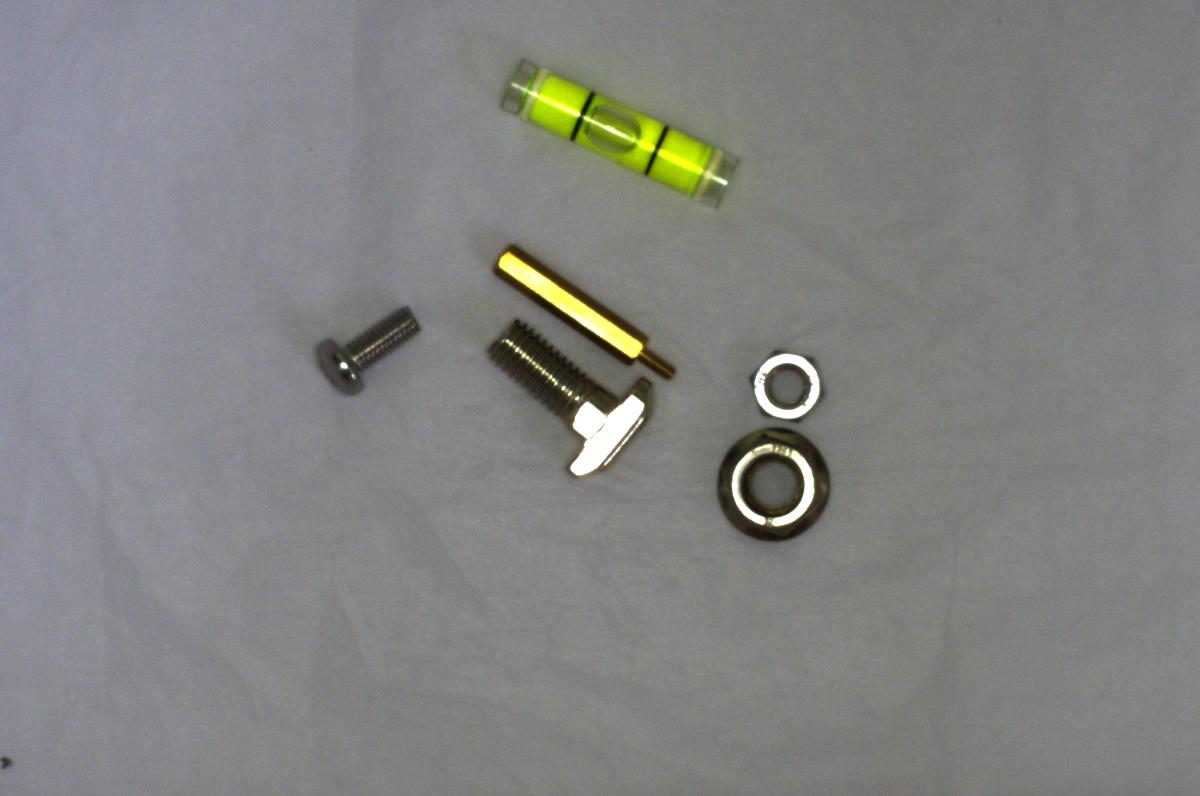Flange nut: (713, 423, 839, 546)
Hexagon nut: (746, 345, 833, 425)
Hexagon pillar: (487, 241, 682, 386)
Horizontal bubble: (494, 50, 745, 210)
Round head screw: (307, 305, 422, 392)
T-shaped screw: (482, 320, 657, 480)
